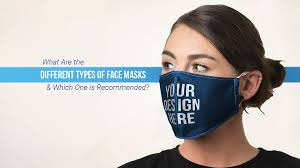with-mask: (158, 4, 291, 146)
